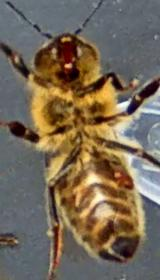varroa_mite: (103, 163, 143, 197)
